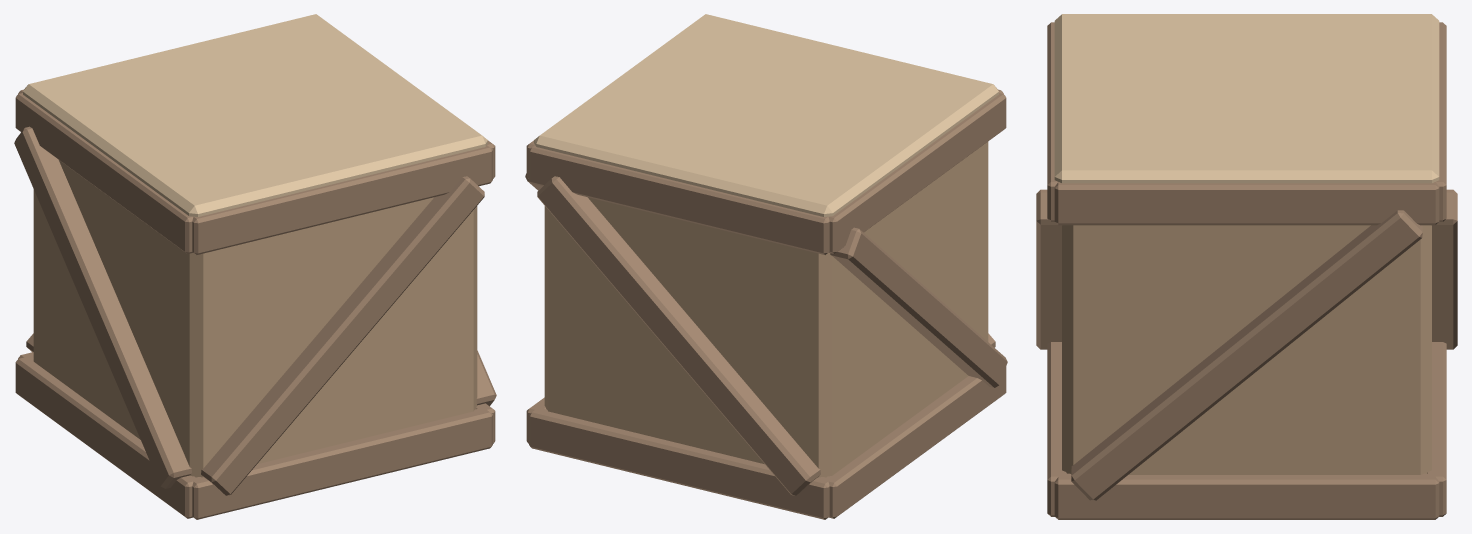
Rendered from prop_crate.glb.
3 renders of one model, left to right at view 1: azimuth 30°, elevation 25°; view 2: azimuth 150°, elevation 25°; view 3: azimuth 270°, elevation 25°, orthographic. The views are drawn at different scales.
Visible parts, largest first — view 1: prop_crate; view 2: prop_crate; view 3: prop_crate.
Boxes of the visible parts, x1,y1,x2,y2 form: prop_crate: (14, 14, 496, 519); prop_crate: (525, 14, 1007, 519); prop_crate: (1036, 14, 1457, 519).
Bounding box in the file's own units: 1.14 × 1.03 × 1.14.
